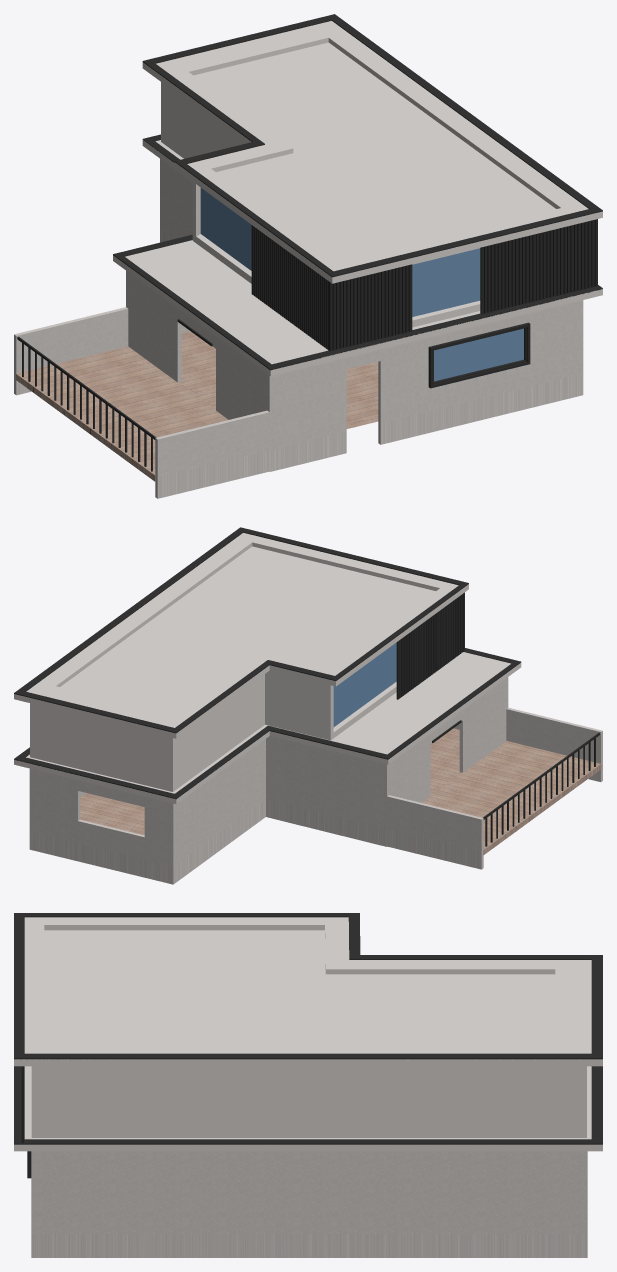
Rendered from LightMapTestWalls.glb.
The picture shows the model from 3 angles, top to bottom: view 1: azimuth 30°, elevation 25°; view 2: azimuth 150°, elevation 25°; view 3: azimuth 270°, elevation 25°; orthographic projection. The views are drawn at different scales.
Parts seen in each view (by area): view 1: Wall(Remove), Walls; view 2: Wall(Remove), Walls; view 3: Wall(Remove), Walls.
Part boxes in pixels (x1,y1,x2,y2): Wall(Remove): (113,14,602,471); Walls: (14,159,378,498); Wall(Remove): (14,527,521,804); Walls: (29,677,602,884); Wall(Remove): (14,913,602,1178); Walls: (31,1151,587,1257).
Size of the model in its own units: 15.02 by 6.18 by 15.95.
Materials: 5 (2 with a texture image).
